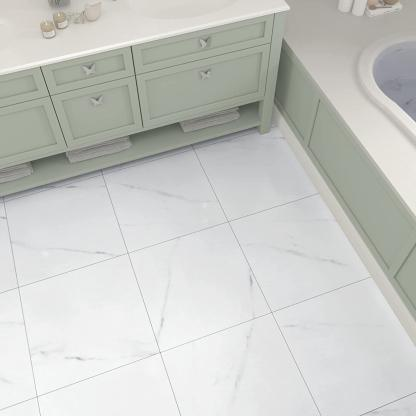Ceramic floor: (0, 115, 416, 416)
